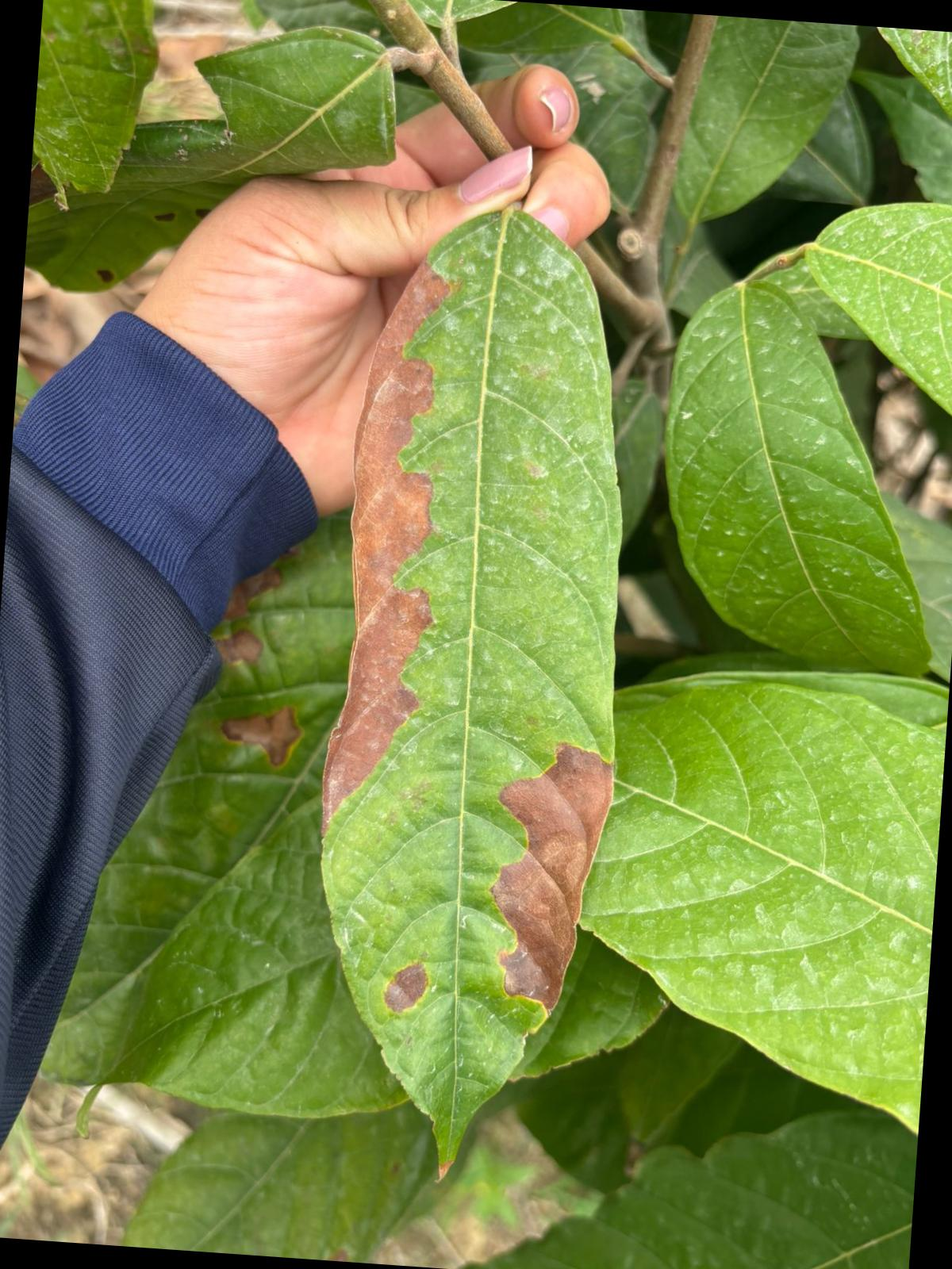Potasio: (322, 212, 620, 1171)
